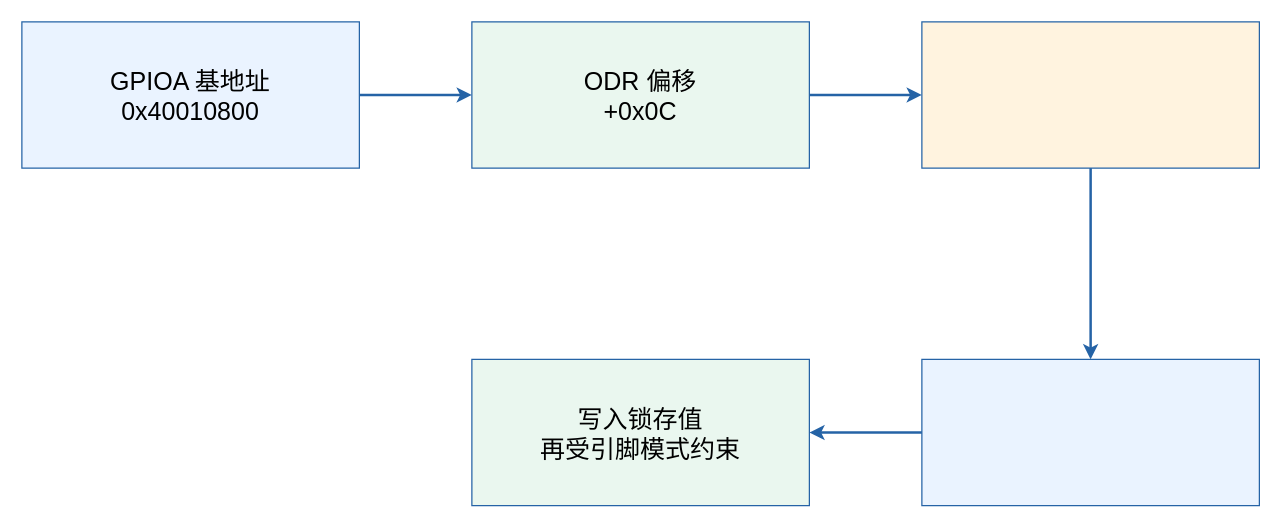
This 1281x528 diagram has some shape labels left out. Here are the shapes that lost their labels. From the top down, the box of each, then its label:
(921, 21, 1259, 168): 有效地址 0x4001080C
(921, 358, 1259, 506): 总线地址译码 选 GPIOA 的 ODR
